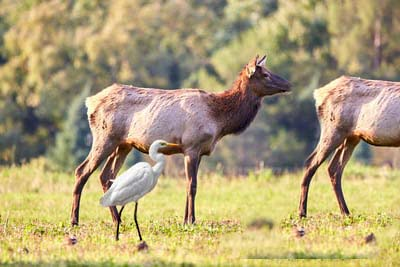copymove: (299, 63, 400, 228)
removal: (250, 221, 374, 261)
spliced: (103, 132, 182, 251)
